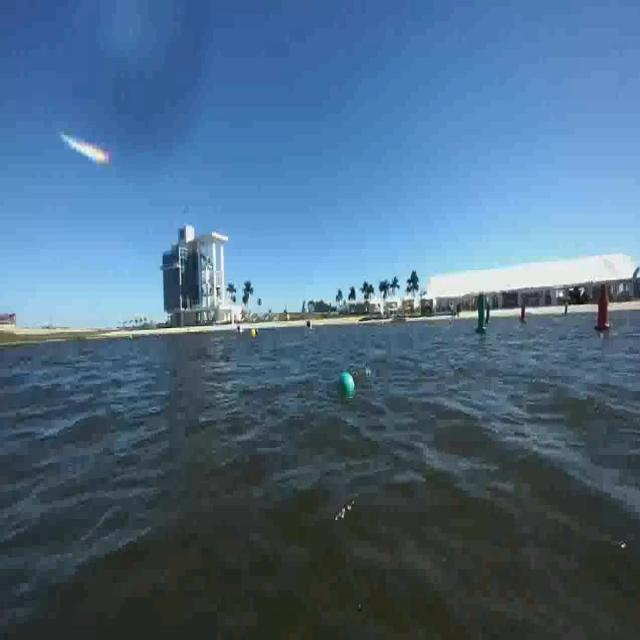green-buoy: (340, 374, 354, 395)
green-column-buoy: (476, 296, 487, 336), (485, 290, 491, 329)
red-buoy: (518, 299, 527, 325)
red-column-buoy: (594, 284, 612, 334)
yellow-buoy: (251, 326, 257, 338)
